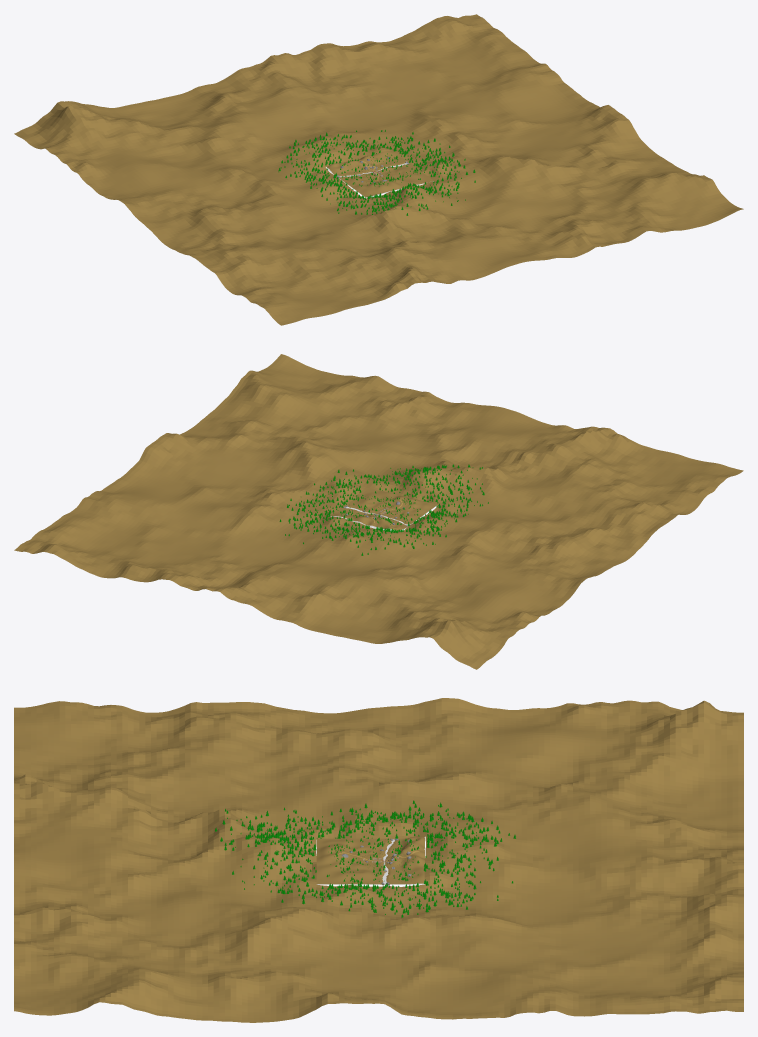
The model's file is village1.glb.
The picture shows the model from 3 angles, top to bottom: view 1: azimuth 30°, elevation 25°; view 2: azimuth 150°, elevation 25°; view 3: azimuth 270°, elevation 25°; orthographic projection. The views are drawn at different scales.
Visible parts, largest first — view 1: Landscape, pines.262, ground; view 2: Landscape, pines.262, ground; view 3: Landscape, pines.262, ground.
Part boxes in pixels (left/top/right/bottom): Landscape: left=14, top=14, right=743, bottom=325; pines.262: left=278, top=130, right=475, bottom=215; ground: left=326, top=151, right=433, bottom=197; Landscape: left=14, top=354, right=743, bottom=669; pines.262: left=279, top=464, right=488, bottom=555; ground: left=331, top=488, right=437, bottom=531; Landscape: left=14, top=698, right=743, bottom=1022; pines.262: left=215, top=800, right=515, bottom=917; ground: left=316, top=836, right=425, bottom=884.
Bounding box in the file's own units: 503 × 32.26 × 503.
Materials: 102 (8 with a texture image).
